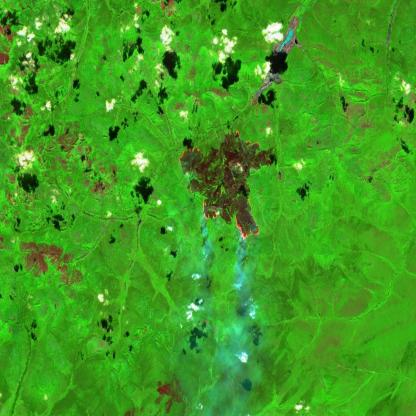fire: (176, 136, 274, 240)
